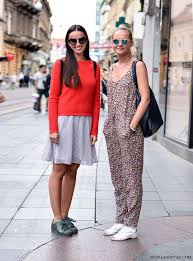no-mask: (62, 18, 92, 56), (109, 24, 133, 57)
